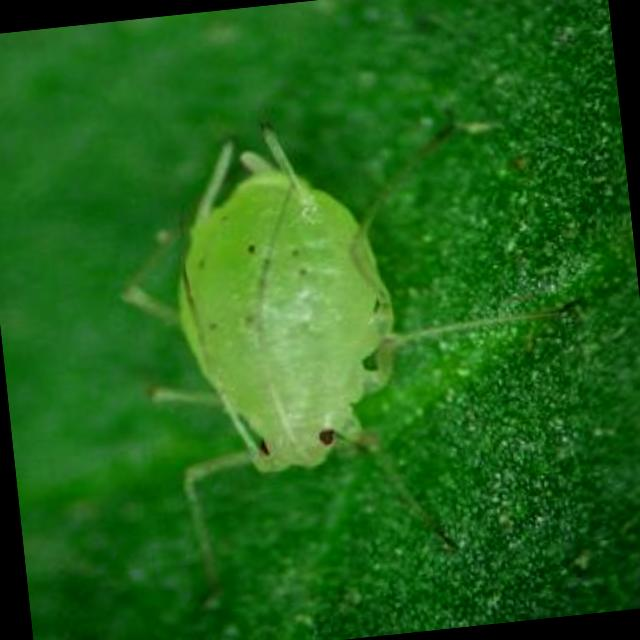Green peach aphid: (36, 17, 546, 616)
